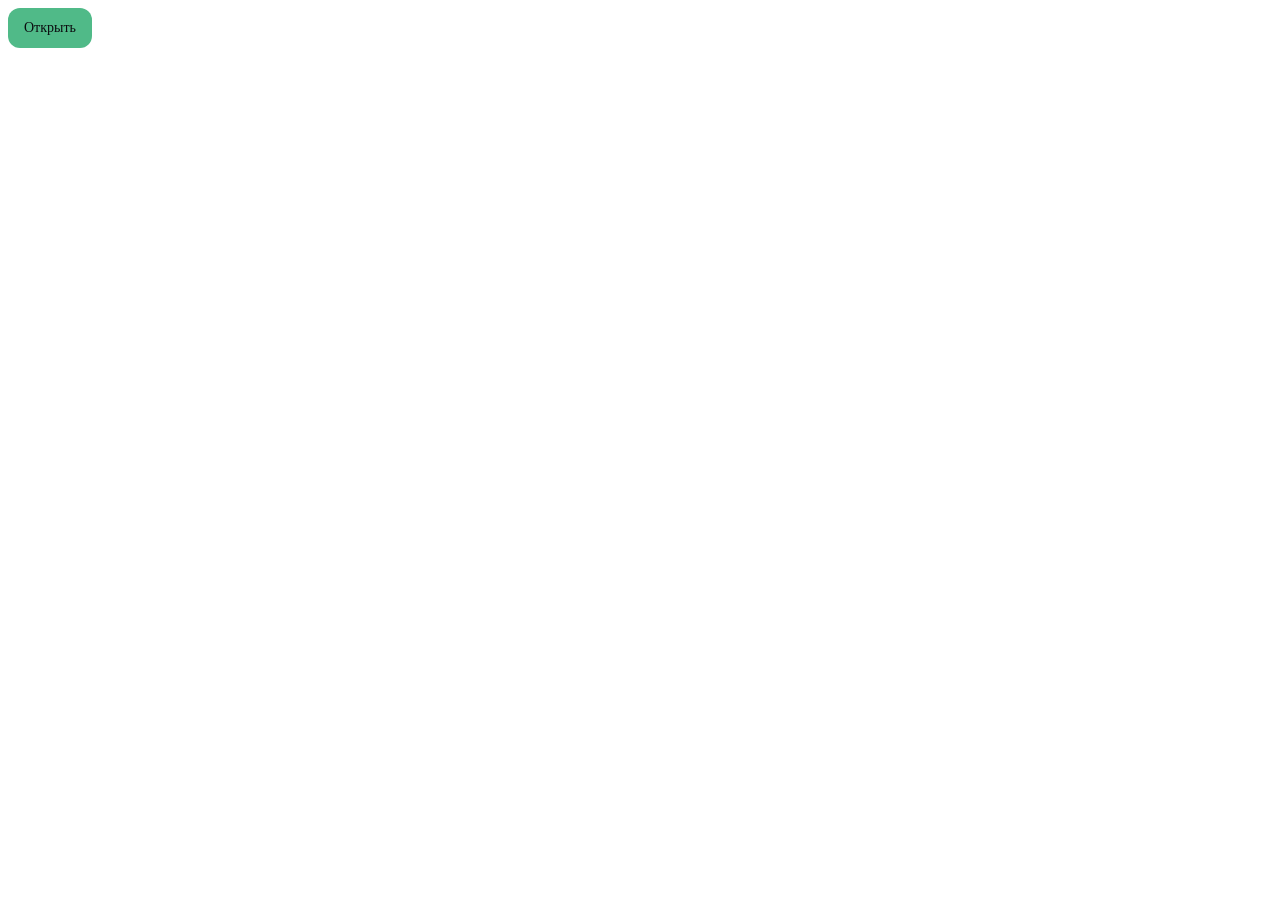
it: overlay contract › traps focus inside Dialog and restores it on close
Click the button "Открыть": [50, 28] box [8,8,92,48]
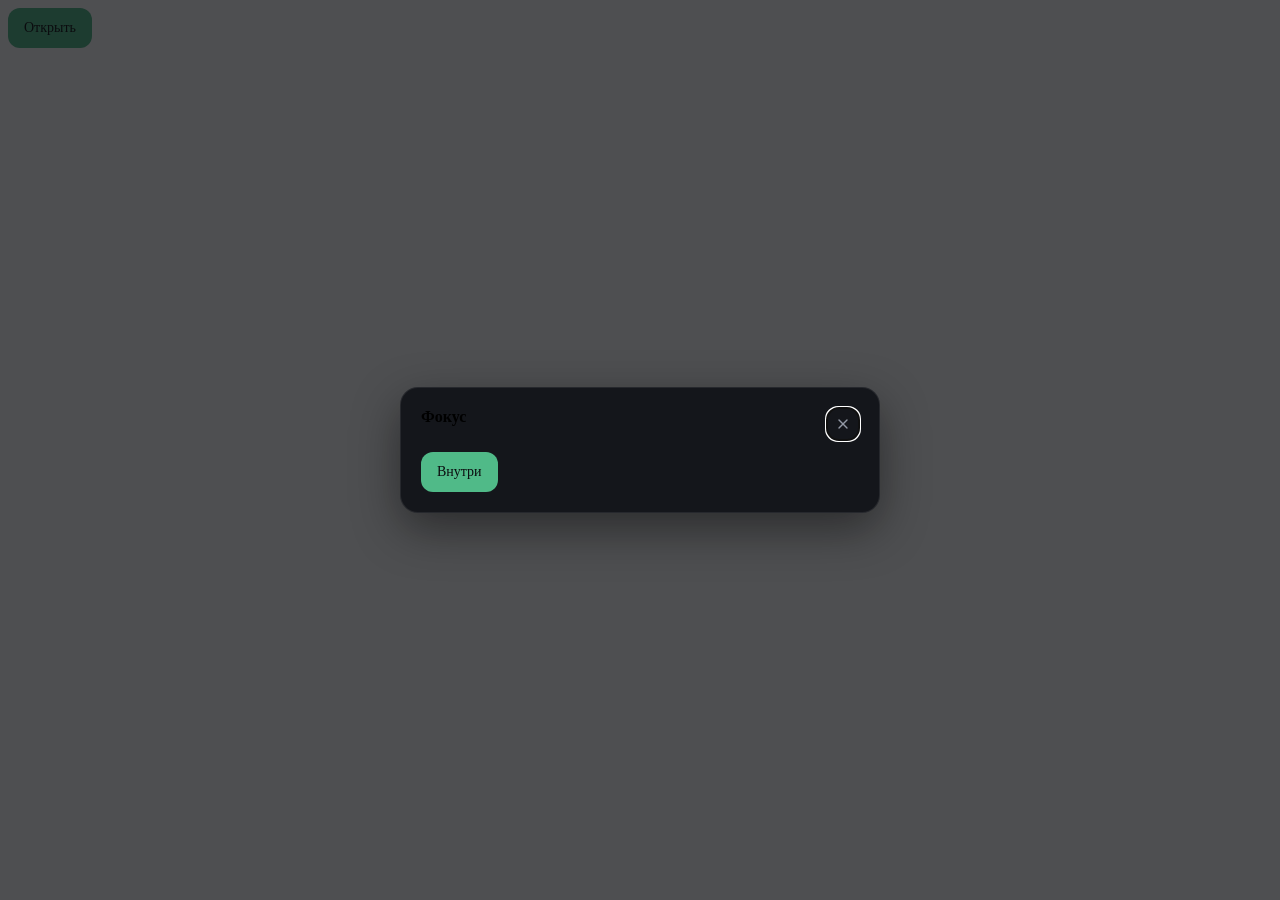
Press Tab
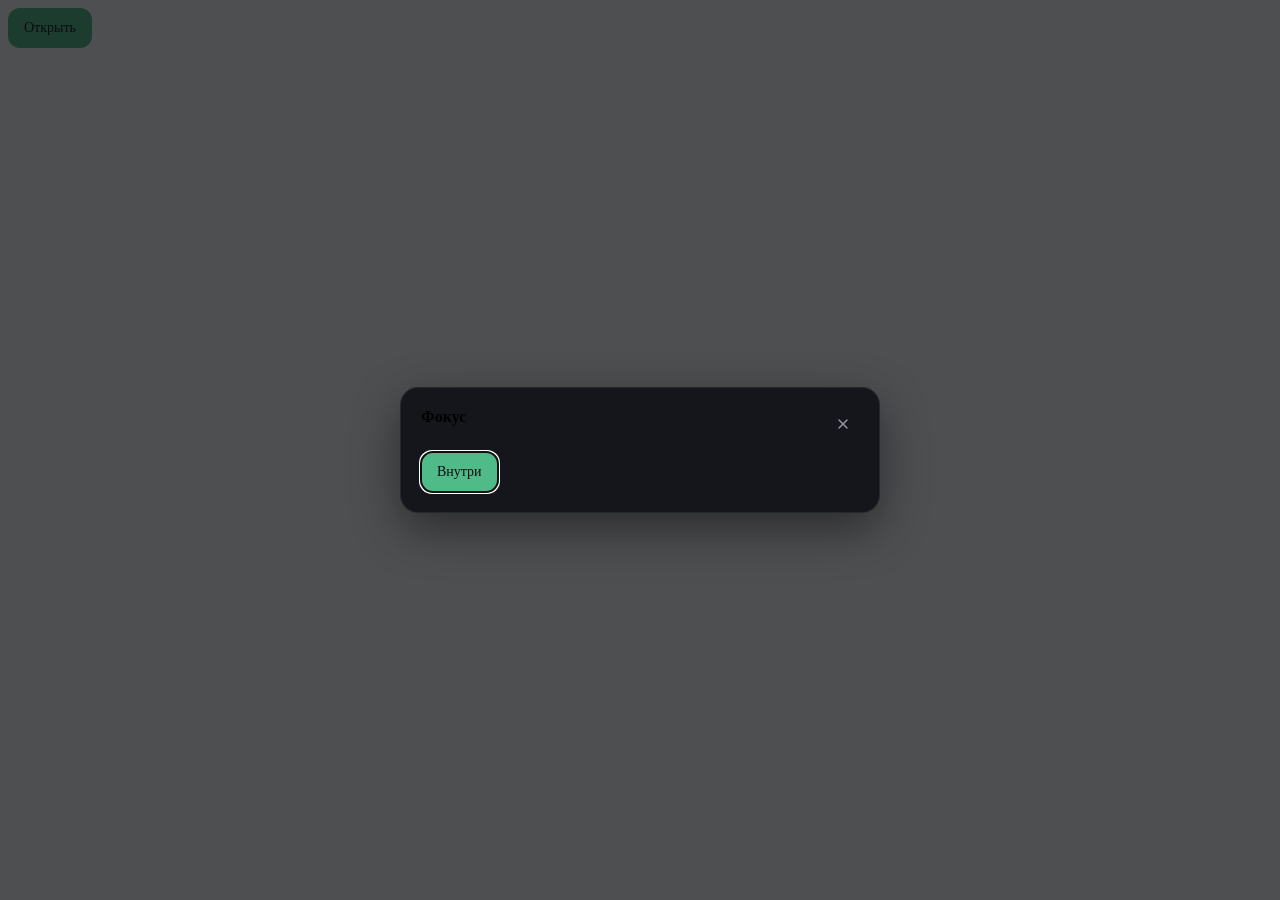
Press Tab
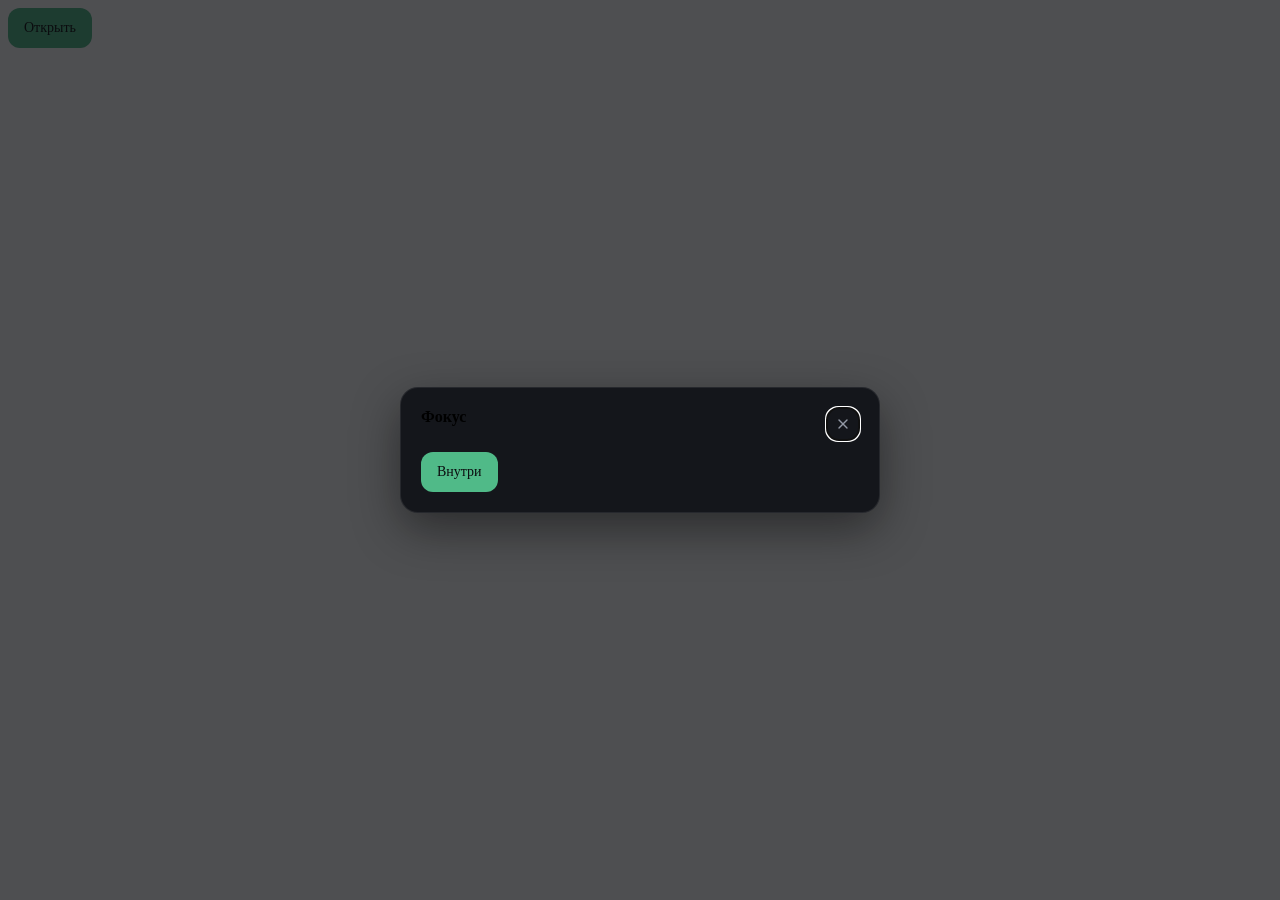
Press Escape
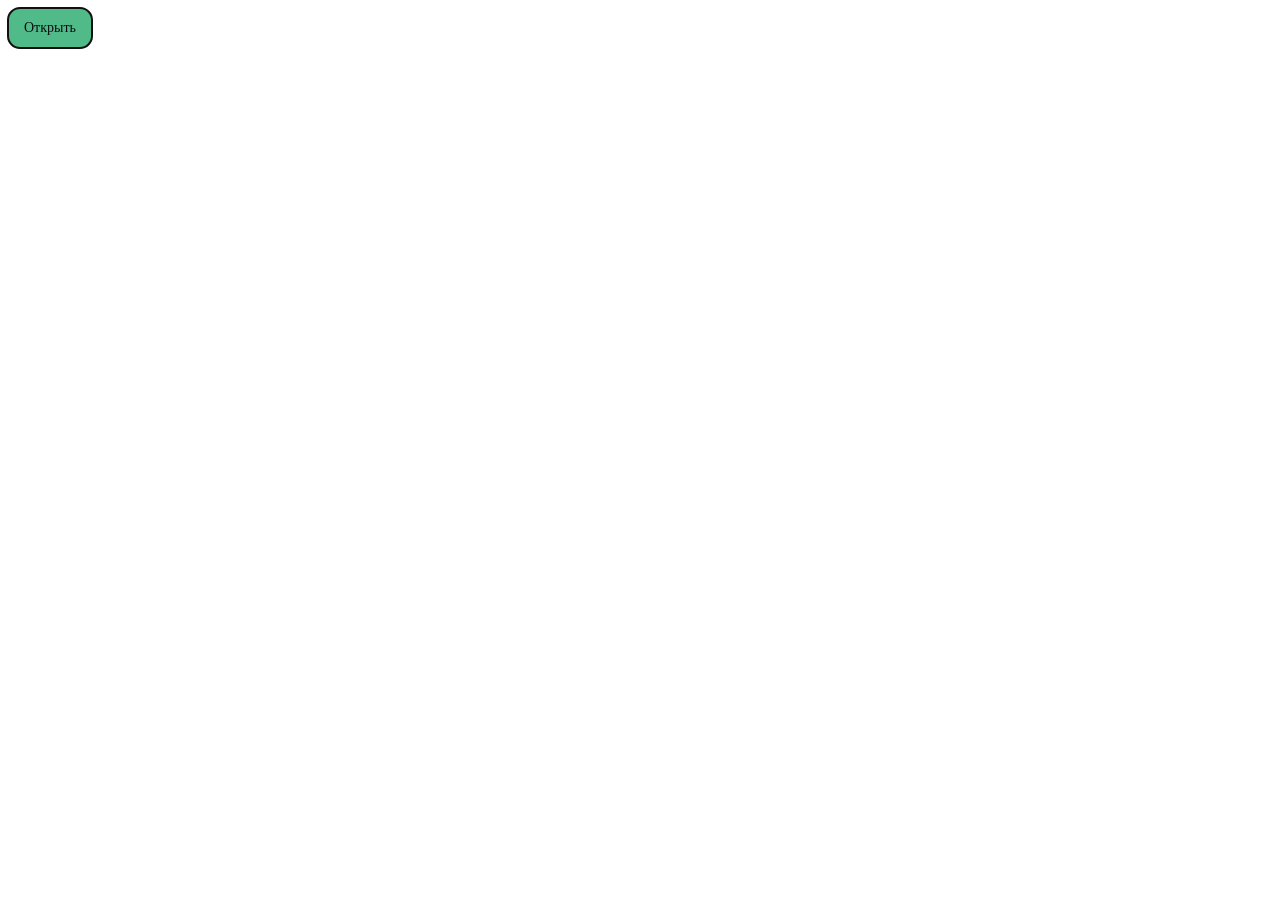
Expected: the dialog is gone
